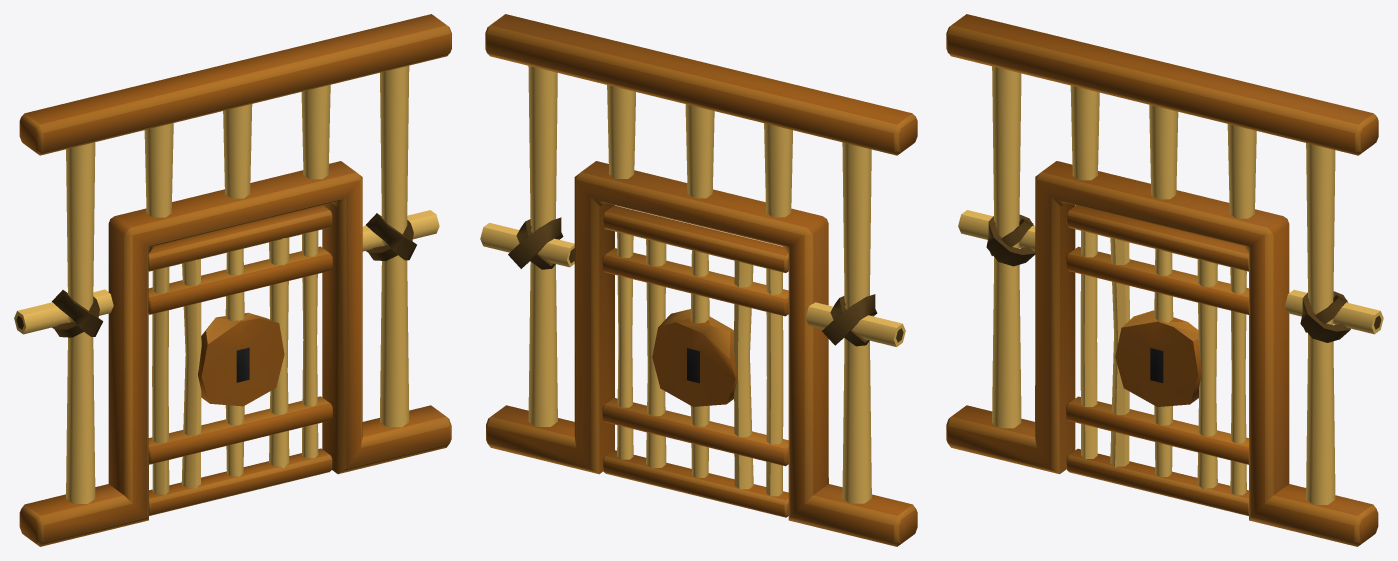
Rendered from DoorTribal.fbx.
3 renders of one model, left to right at view 1: azimuth 30°, elevation 25°; view 2: azimuth 150°, elevation 25°; view 3: azimuth 330°, elevation 25°, orthographic.
Parts seen in each view (by area): view 1: lattice1, door; view 2: lattice1, door; view 3: lattice1, door.
Part boxes in pixels (x1,y1,x2,y2): lattice1: [14, 14, 451, 546]; door: [148, 205, 332, 515]; lattice1: [480, 14, 917, 546]; door: [602, 205, 788, 517]; lattice1: [946, 14, 1383, 546]; door: [1066, 205, 1248, 515].
Size of the model in its own units: 1.59 by 1.55 by 0.2024.
